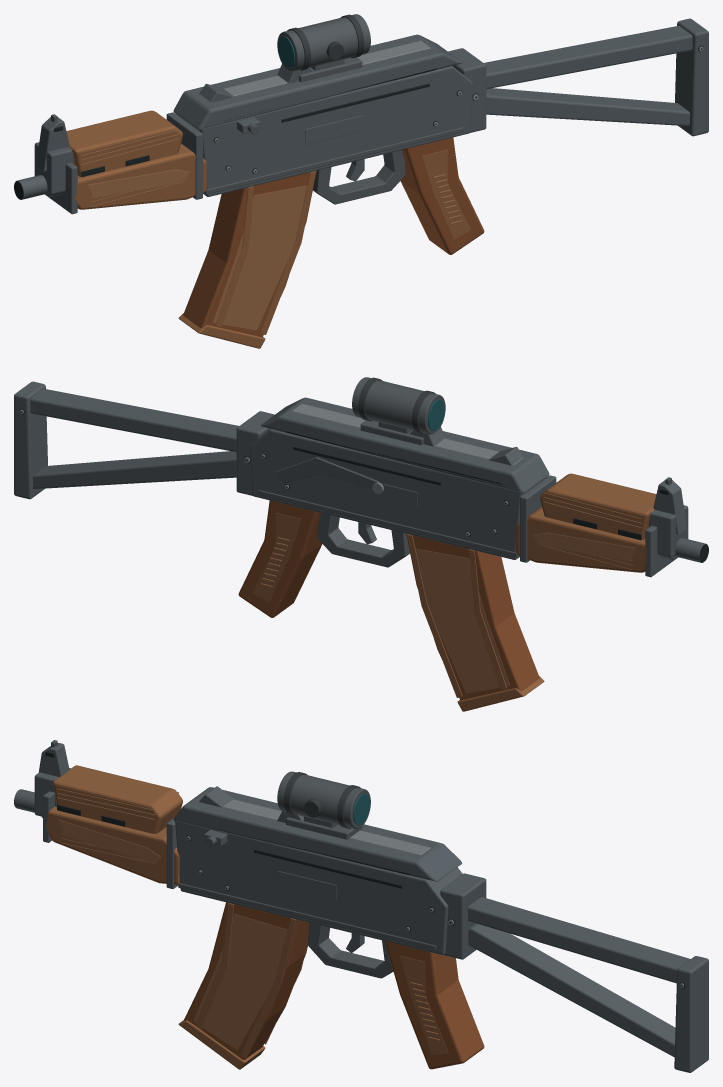
Rendered from aks74u.glb.
3 renders of one model, top to bottom at view 1: azimuth 30°, elevation 25°; view 2: azimuth 150°, elevation 25°; view 3: azimuth 330°, elevation 25°, orthographic.
Visible parts, largest first — view 1: part_body_surfaces, part_stock_surfaces, part_magazine_surfaces, part_handguard_surfaces, part_cover_surfaces, part_grip_surfaces, part_optic_surfaces, part_front_surfaces, part_sights_surfaces; view 2: part_body_surfaces, part_stock_surfaces, part_magazine_surfaces, part_handguard_surfaces, part_cover_surfaces, part_grip_surfaces, part_optic_surfaces, part_front_surfaces, part_sights_surfaces; view 3: part_body_surfaces, part_stock_surfaces, part_magazine_surfaces, part_handguard_surfaces, part_grip_surfaces, part_cover_surfaces, part_optic_surfaces, part_sights_surfaces, part_front_surfaces.
Boxes of the visible parts, x1=… form: part_body_surfaces: x1=176, y1=66, x2=473, y2=196; part_stock_surfaces: x1=448, y1=18, x2=708, y2=136; part_magazine_surfaces: x1=178, y1=171, x2=316, y2=348; part_handguard_surfaces: x1=45, y1=110, x2=206, y2=214; part_cover_surfaces: x1=173, y1=34, x2=461, y2=130; part_grip_surfaces: x1=313, y1=137, x2=484, y2=254; part_optic_surfaces: x1=277, y1=14, x2=370, y2=82; part_front_surfaces: x1=14, y1=142, x2=73, y2=199; part_sights_surfaces: x1=36, y1=64, x2=312, y2=171; part_body_surfaces: x1=249, y1=429, x2=546, y2=559; part_stock_surfaces: x1=14, y1=381, x2=274, y2=499; part_magazine_surfaces: x1=406, y1=534, x2=544, y2=711; part_handguard_surfaces: x1=516, y1=473, x2=677, y2=577; part_cover_surfaces: x1=261, y1=397, x2=549, y2=493; part_grip_surfaces: x1=238, y1=500, x2=409, y2=617; part_optic_surfaces: x1=352, y1=377, x2=445, y2=445; part_front_surfaces: x1=649, y1=505, x2=708, y2=562; part_sights_surfaces: x1=410, y1=427, x2=686, y2=534; part_body_surfaces: x1=175, y1=820, x2=462, y2=954; part_stock_surfaces: x1=440, y1=873, x2=708, y2=1072; part_magazine_surfaces: x1=178, y1=902, x2=309, y2=1069; part_handguard_surfaces: x1=43, y1=765, x2=182, y2=888; part_grip_surfaces: x1=307, y1=922, x2=484, y2=1069; part_cover_surfaces: x1=173, y1=787, x2=461, y2=881; part_optic_surfaces: x1=277, y1=771, x2=370, y2=839; part_sights_surfaces: x1=38, y1=740, x2=303, y2=822; part_front_surfaces: x1=14, y1=768, x2=70, y2=817.
Bounding box in the file's own units: 230 × 96.7 × 22.45.
